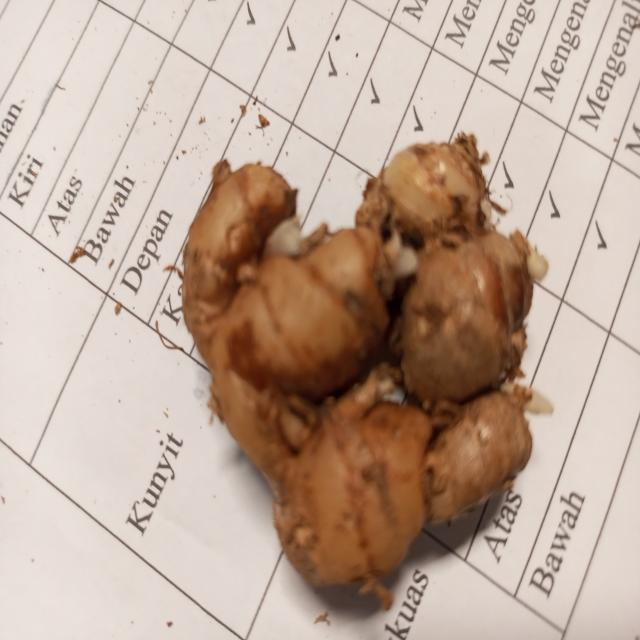ginger: (184, 154, 530, 572)
